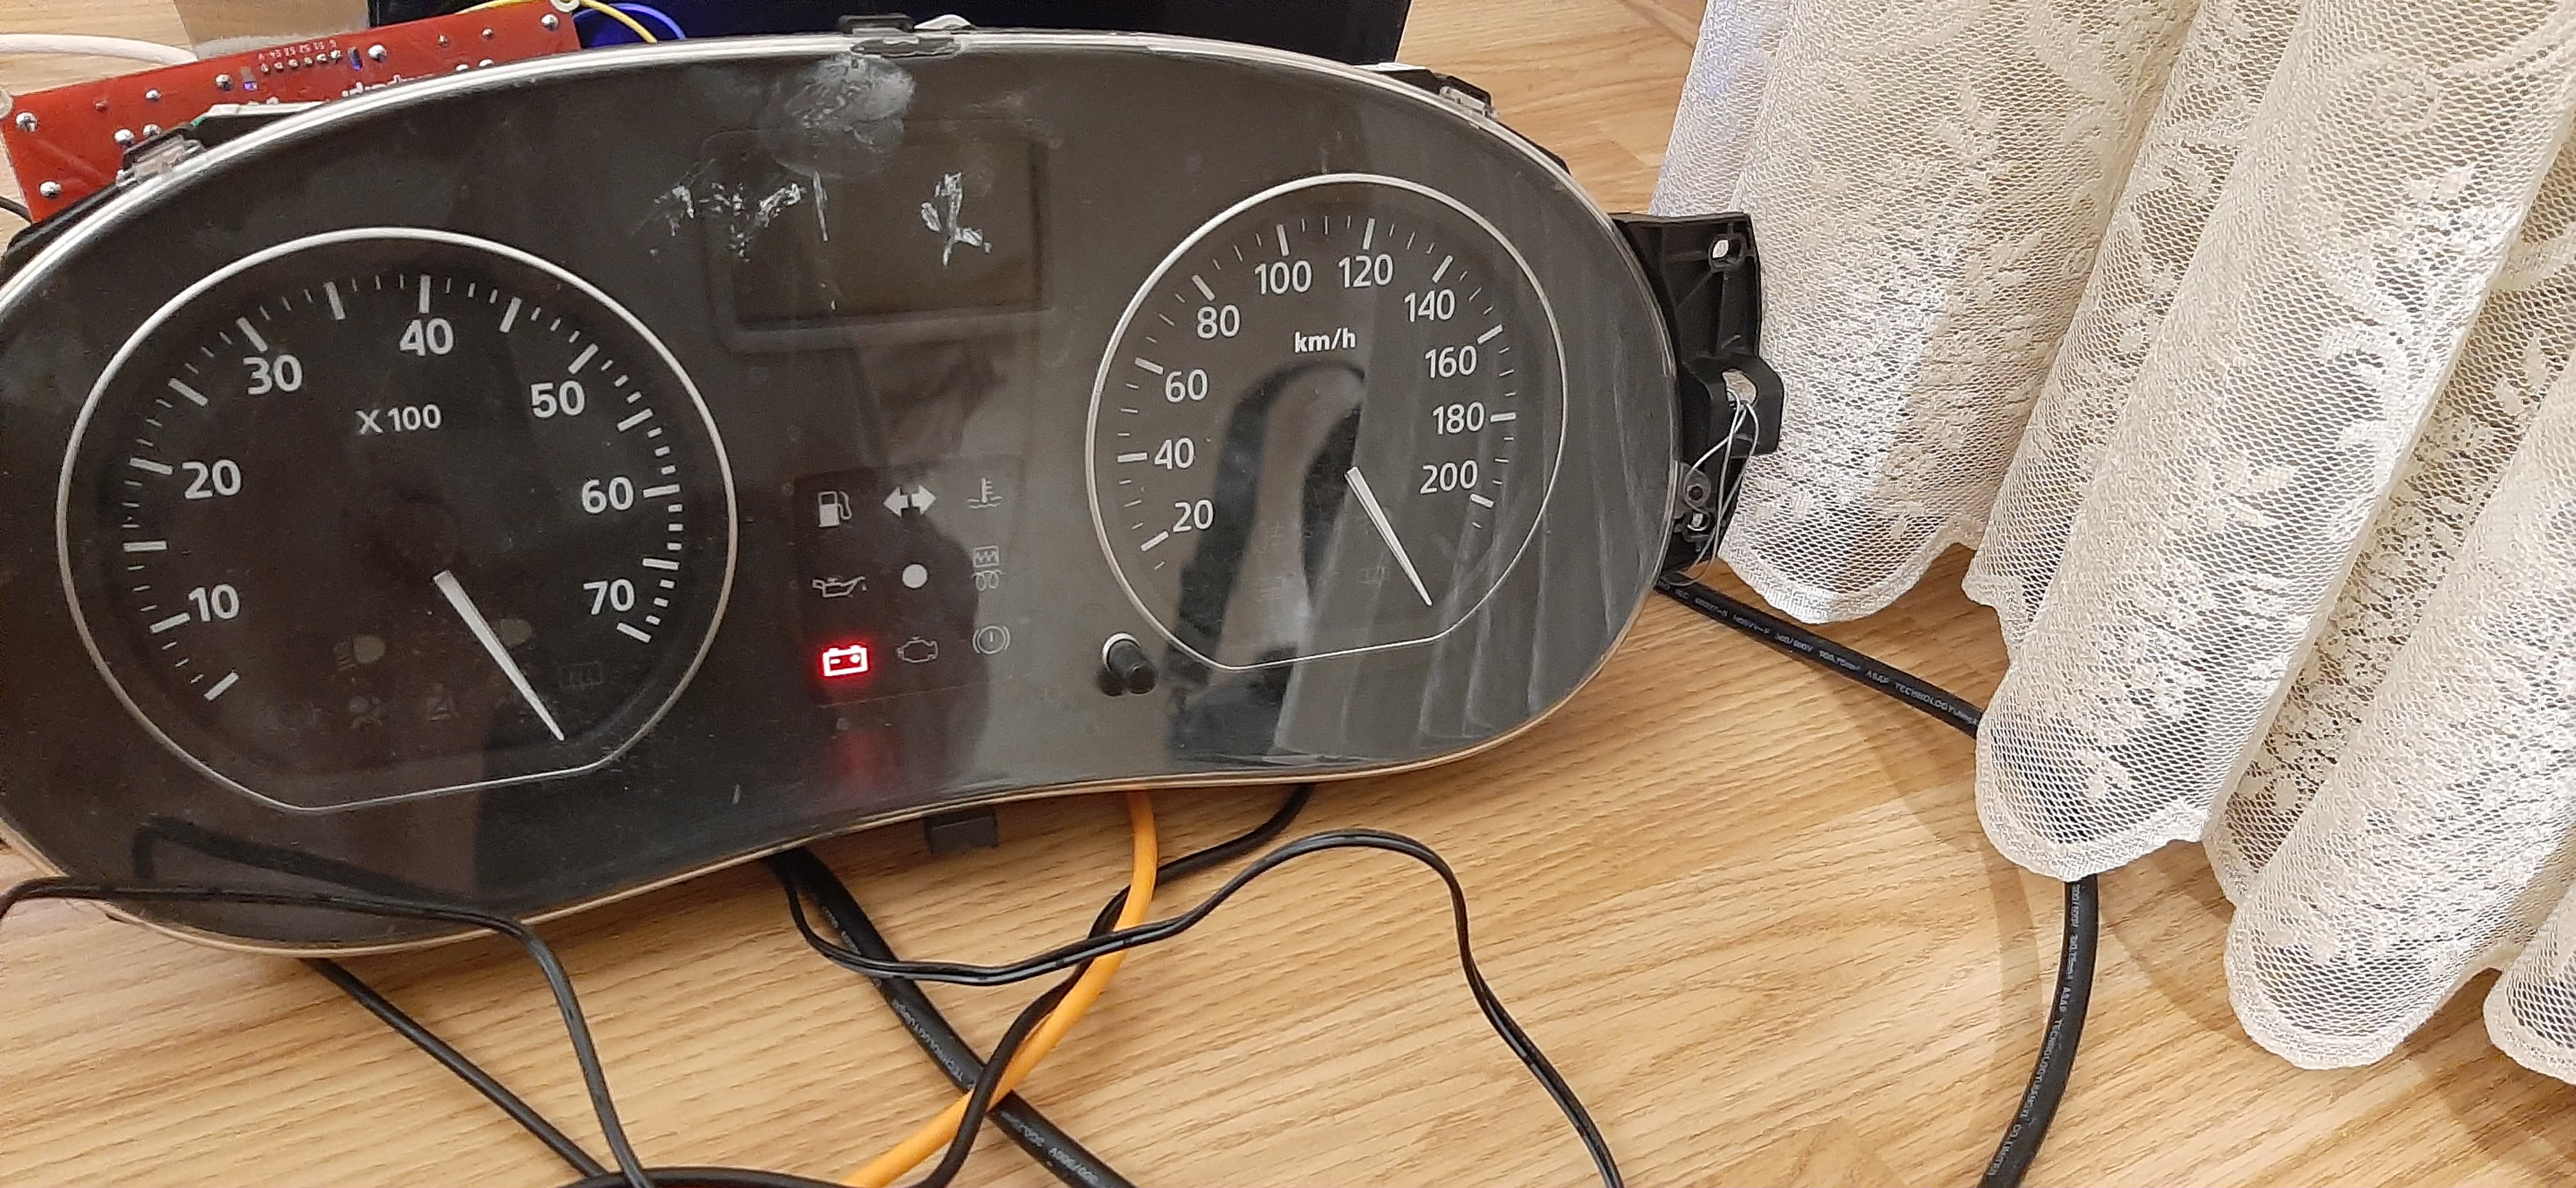accomulator22: (816, 638, 877, 684)
